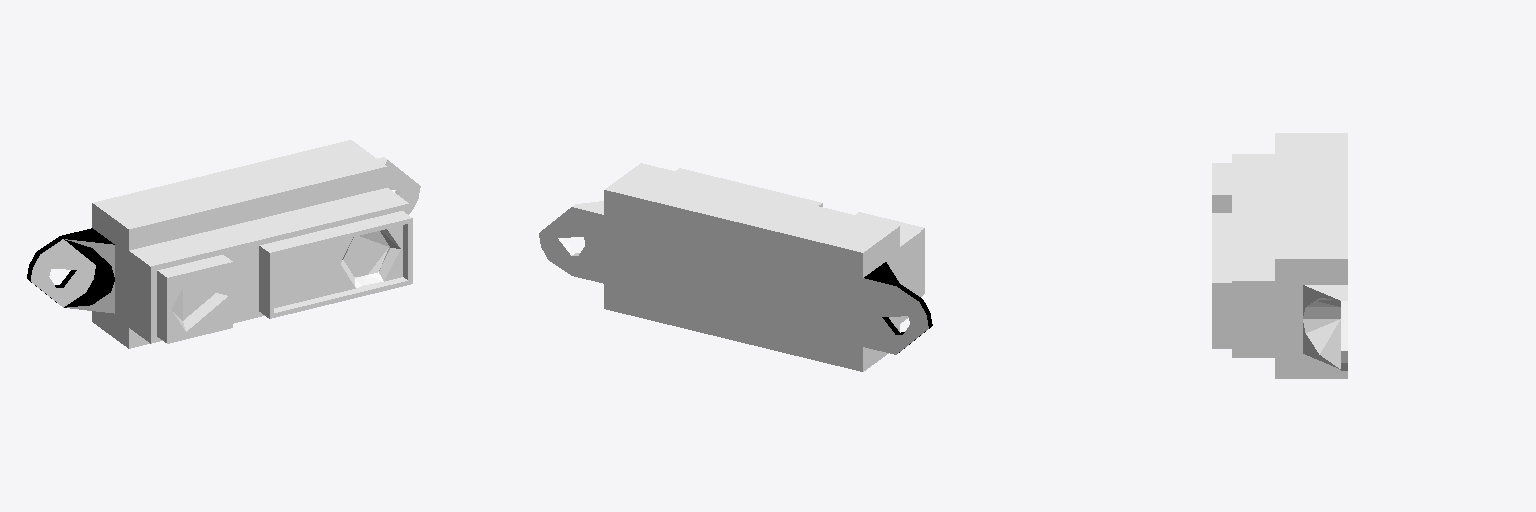
3 views of the same model, side by side, from view 1: azimuth 30°, elevation 25°; view 2: azimuth 150°, elevation 25°; view 3: azimuth 270°, elevation 25° (orthographic).
Visible parts, largest first — view 1: mesh 1 2Y0A21, mesh 2 Scale1; view 2: mesh 1 2Y0A21, mesh 2 Scale1; view 3: mesh 1 2Y0A21.
Part boxes in pixels (bbox=[...]): mesh 1 2Y0A21: bbox=[31, 140, 420, 348]; mesh 2 Scale1: bbox=[27, 228, 114, 307]; mesh 1 2Y0A21: bbox=[539, 163, 928, 371]; mesh 2 Scale1: bbox=[864, 262, 932, 352]; mesh 1 2Y0A21: bbox=[1212, 133, 1347, 378].
Size of the model in its own units: 0.0067 by 0.0019 by 0.002.